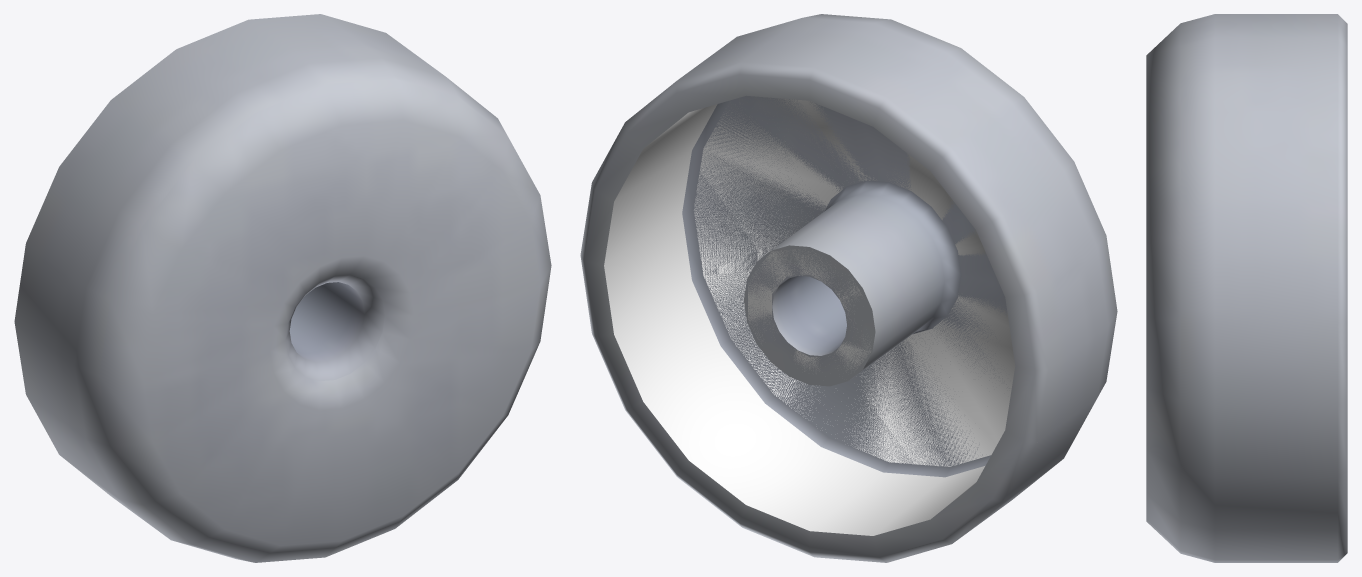
File: objects_un_t04pottery04.gltf
The picture shows the model from 3 angles, left to right: view 1: azimuth 30°, elevation 25°; view 2: azimuth 150°, elevation 25°; view 3: azimuth 270°, elevation 25°; orthographic projection. The views are drawn at different scales.
Visible parts, largest first — view 1: um_objects_un_t04pottery04_model_lod0Shape:objects_un_t04pot; view 2: um_objects_un_t04pottery04_model_lod0Shape:objects_un_t04pot (×2); view 3: um_objects_un_t04pottery04_model_lod0Shape:objects_un_t04pot.
Boxes of the visible parts, left/top/right/bottom form: um_objects_un_t04pottery04_model_lod0Shape:objects_un_t04pot: left=14, top=14, right=551, bottom=562; um_objects_un_t04pottery04_model_lod0Shape:objects_un_t04pot (×2): left=580, top=14, right=1117, bottom=562; um_objects_un_t04pottery04_model_lod0Shape:objects_un_t04pot: left=1146, top=14, right=1347, bottom=562.
Size of what is drawn, in the model's own units: 1 by 1 by 0.3645.
Materials: 2 (1 with a texture image).
